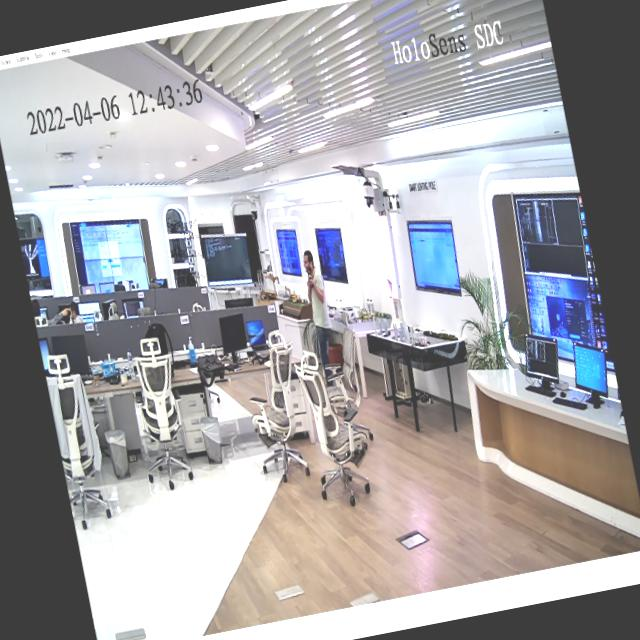long weapon: (304, 270, 316, 292)
